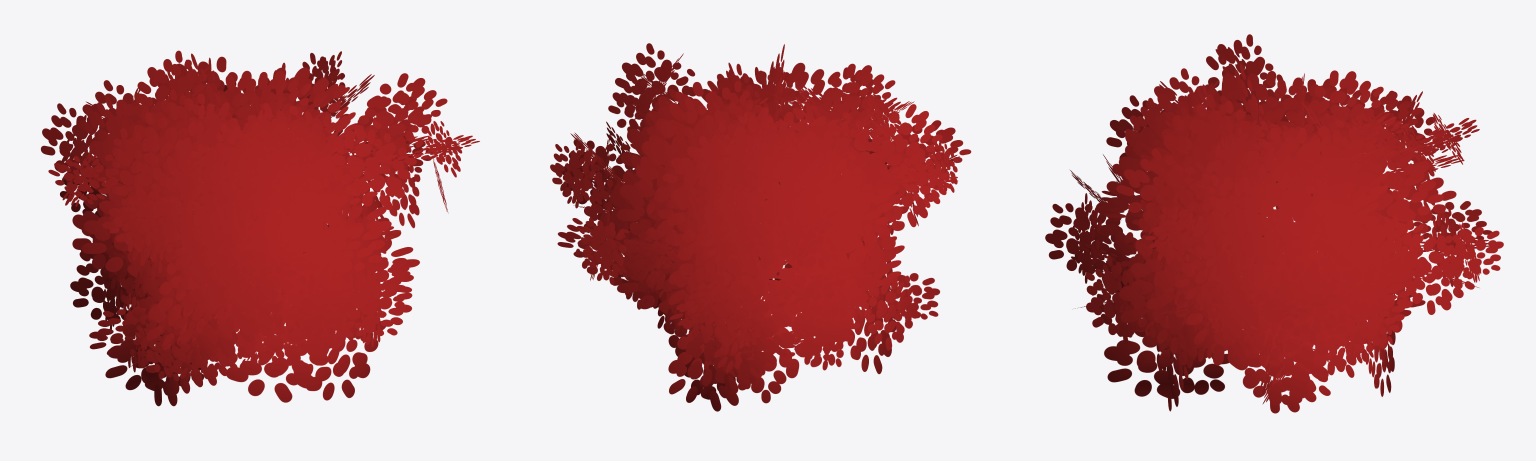
File: bush.gltf
The picture shows the model from 3 angles, left to right: view 1: azimuth 30°, elevation 25°; view 2: azimuth 150°, elevation 25°; view 3: azimuth 270°, elevation 25°; orthographic projection. The views are drawn at different scales.
Parts seen in each view (by area): view 1: Bush_Common; view 2: Bush_Common; view 3: Bush_Common.
Boxes of the visible parts, x1,y1,x2,y2 form: Bush_Common: (41,50,479,406); Bush_Common: (550,43,971,411); Bush_Common: (1045,34,1503,413).
Bounding box in the file's own units: 1.91 × 1.58 × 1.97.
1 material, 1 textured.
